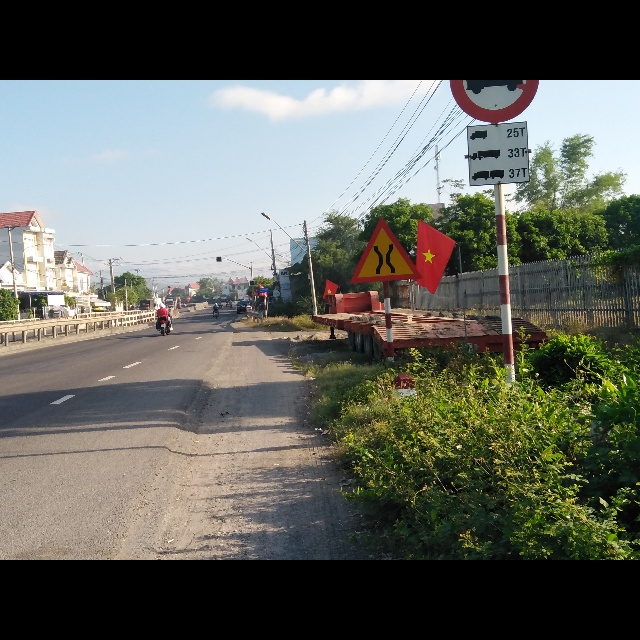Cầu hẹp: (350, 214, 424, 285)
